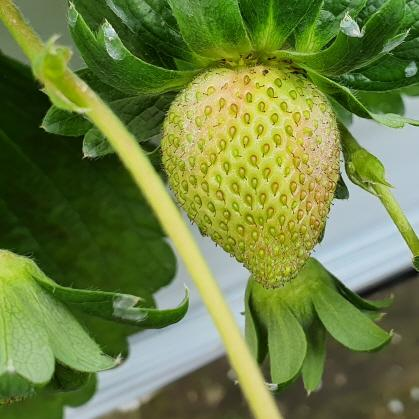Powdery Mildew Fruit: (159, 59, 341, 289)
